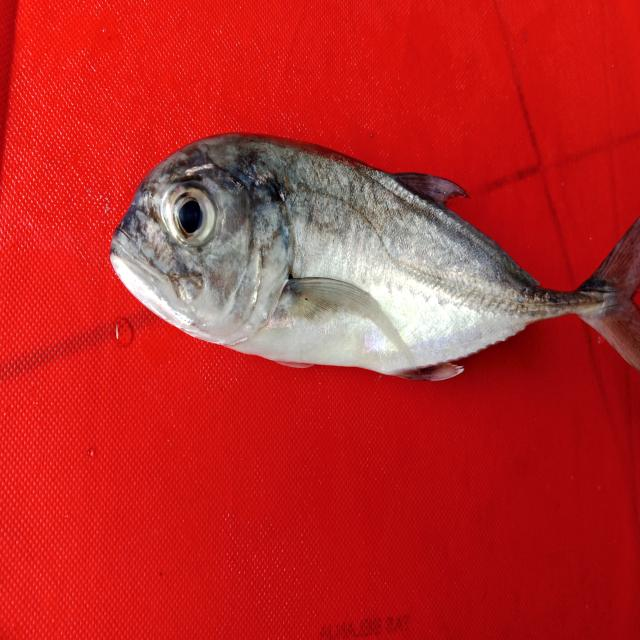ikan: (98, 100, 624, 407)
